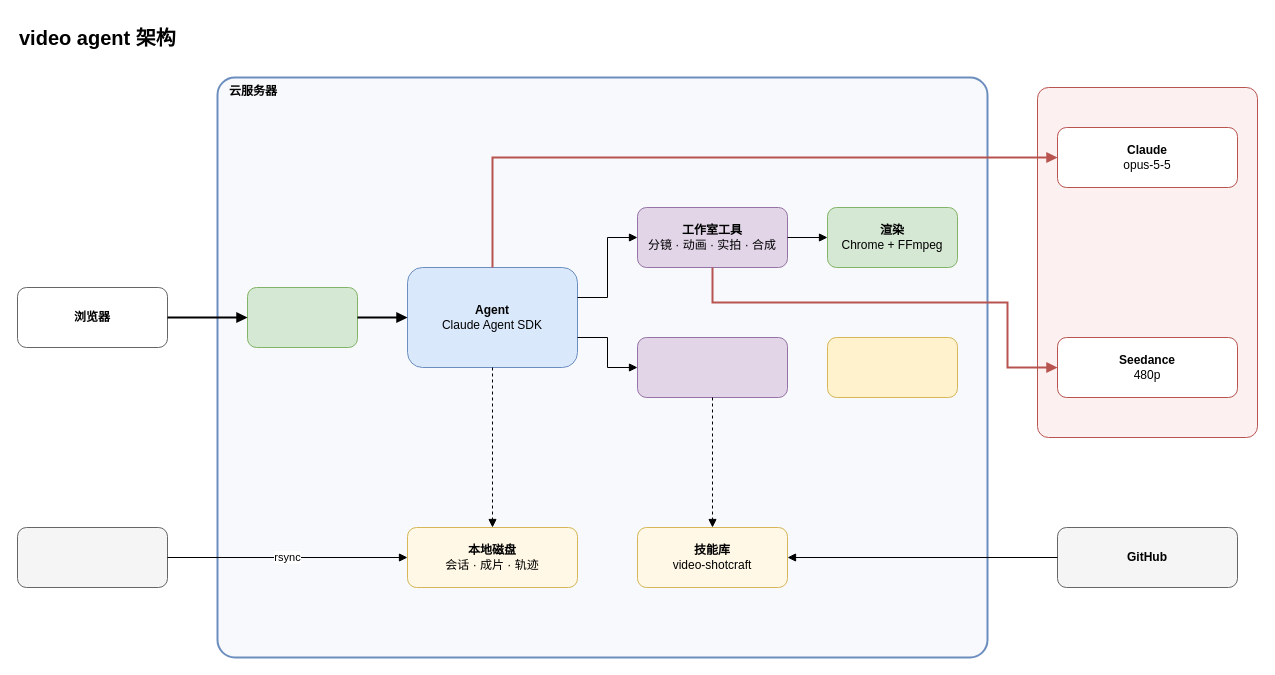
Some shapes in this 1275 by 675 pixel diagram are drawn without their labels. The shapes that lost their labels are listed below. From the top down, each one's box as (x1, y1, x2, y2) in pixels, then its label:
(1036, 86, 1258, 438): 中转站
(246, 286, 358, 348): Nginx
(636, 336, 788, 398): 技能 只读
(826, 336, 958, 398): 花费账本 上限 $100
(16, 526, 168, 588): 开发机
